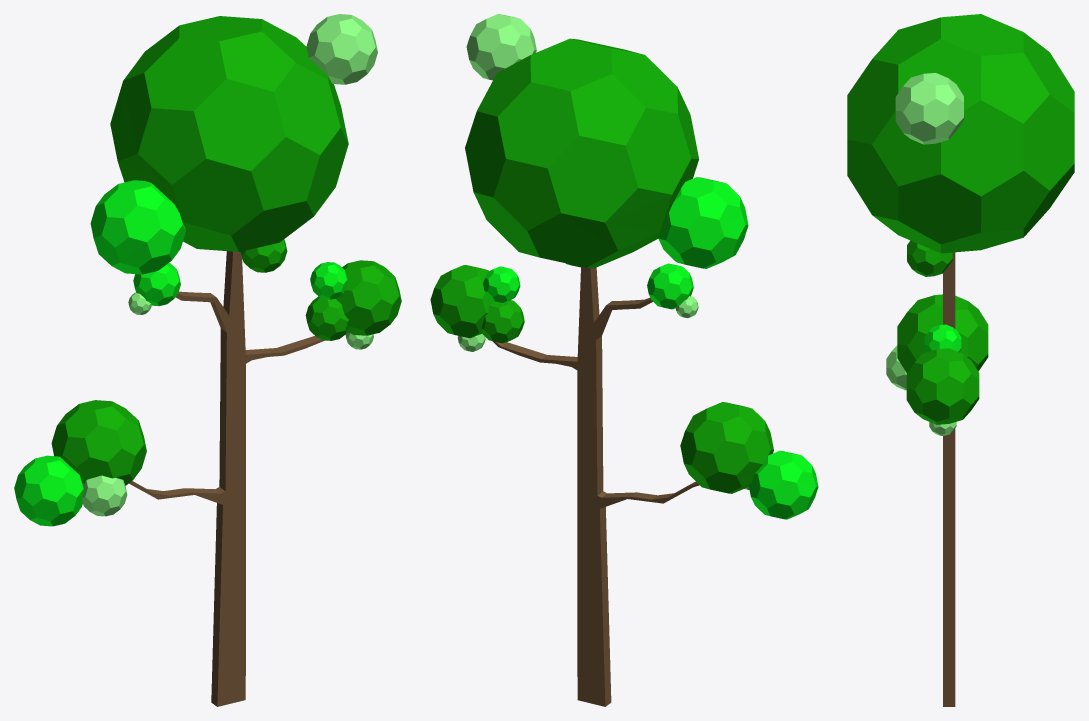
The picture shows the model from 3 angles, left to right: view 1: azimuth 30°, elevation 25°; view 2: azimuth 150°, elevation 25°; view 3: azimuth 270°, elevation 25°; orthographic projection. The views are drawn at different scales.
Visible parts, largest first — view 1: 宝石.9, 封顶_1, 宝石.11, 宝石, 挤压, 宝石.1, 宝石.12, 宝石.3, 宝石.2, 宝石.6, 宝石.7, 宝石.4 (+1 smaller); view 2: 宝石.9, 封顶_2, 宝石, 宝石.11, 挤压, 宝石.1, 宝石.3, 宝石.12, 宝石.7, 宝石.6, 宝石.4; view 3: 宝石.9, 宝石.3, 挤压, 宝石.12, 宝石, 宝石.10, 宝石.4, 宝石.2.
Boxes of the visible parts, x1,y1,x2,y2 form: 宝石.9: [110, 16, 348, 251]; 封顶_1: [129, 251, 324, 706]; 宝石.11: [90, 180, 185, 274]; 宝石: [51, 400, 146, 485]; 挤压: [131, 251, 321, 706]; 宝石.1: [14, 455, 84, 526]; 宝石.12: [306, 14, 377, 84]; 宝石.3: [336, 260, 401, 335]; 宝石.2: [82, 475, 127, 516]; 宝石.6: [305, 296, 349, 340]; 宝石.7: [133, 262, 180, 306]; 宝石.4: [310, 262, 348, 299]; 宝石.9: [465, 38, 698, 268]; 封顶_2: [493, 266, 699, 706]; 宝石: [680, 402, 773, 493]; 宝石.11: [658, 177, 748, 268]; 挤压: [496, 267, 697, 706]; 宝石.1: [748, 450, 818, 519]; 宝石.3: [430, 265, 494, 338]; 宝石.12: [466, 14, 536, 80]; 宝石.7: [647, 263, 693, 309]; 宝石.6: [481, 300, 524, 343]; 宝石.4: [483, 266, 520, 302]; 宝石.9: [847, 14, 1074, 253]; 宝石.3: [906, 348, 979, 424]; 挤压: [943, 252, 955, 706]; 宝石.12: [895, 73, 963, 144]; 宝石: [897, 294, 988, 372]; 宝石.10: [907, 240, 952, 276]; 宝石.4: [924, 324, 961, 352]; 宝石.2: [886, 345, 906, 390].
Size of the model in its own units: 506 by 847 by 258.
